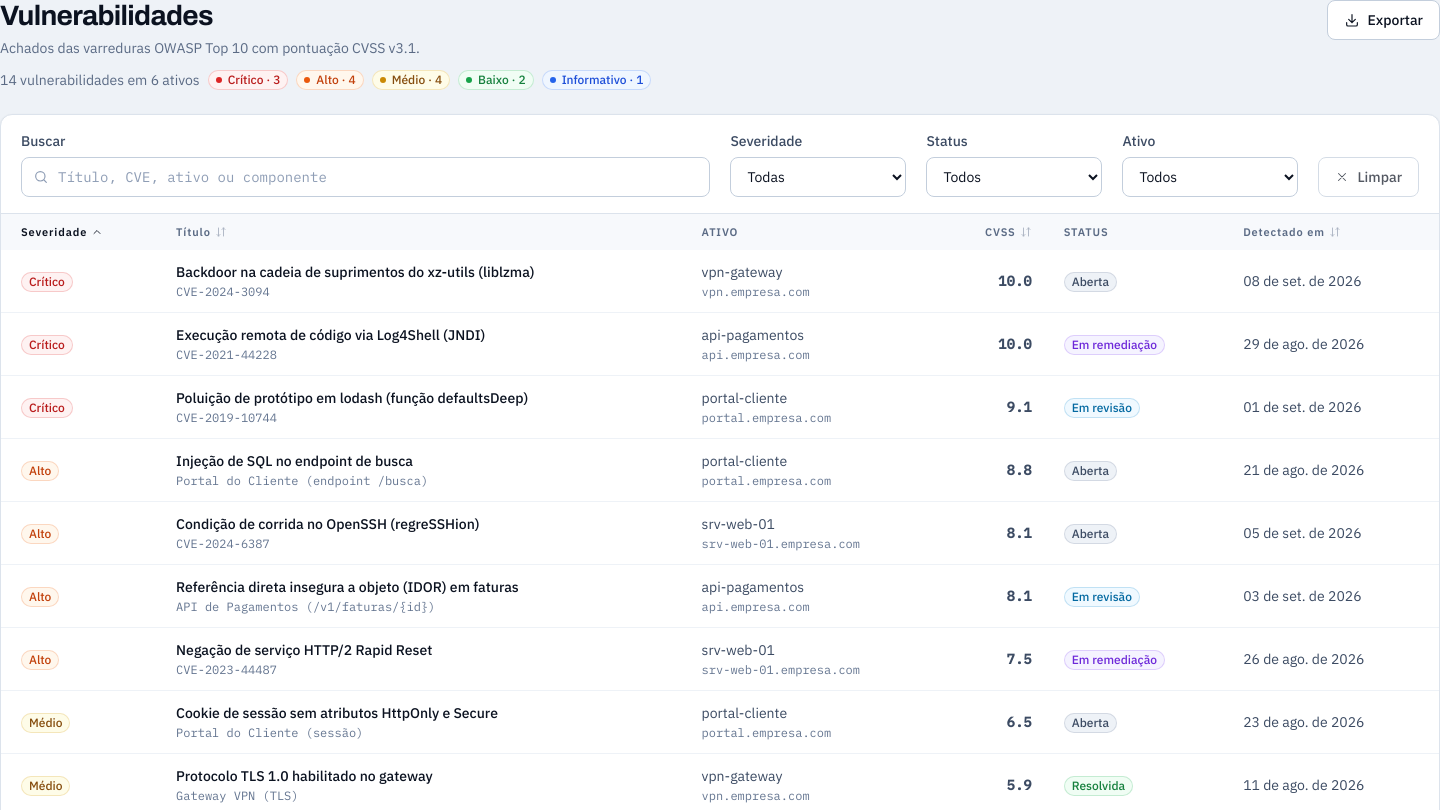
Test case: menu "Exportar" na tela de vulnerabilidades › relatório grande demais (422): mostra a recusa do servidor e não baixa nada
Expected: the button "Exportar" is enabled, [1326,0,1439,40]
Select "Crítico" in the dropdown labelled "Severidade": x=818, y=177 [730,157,906,197]
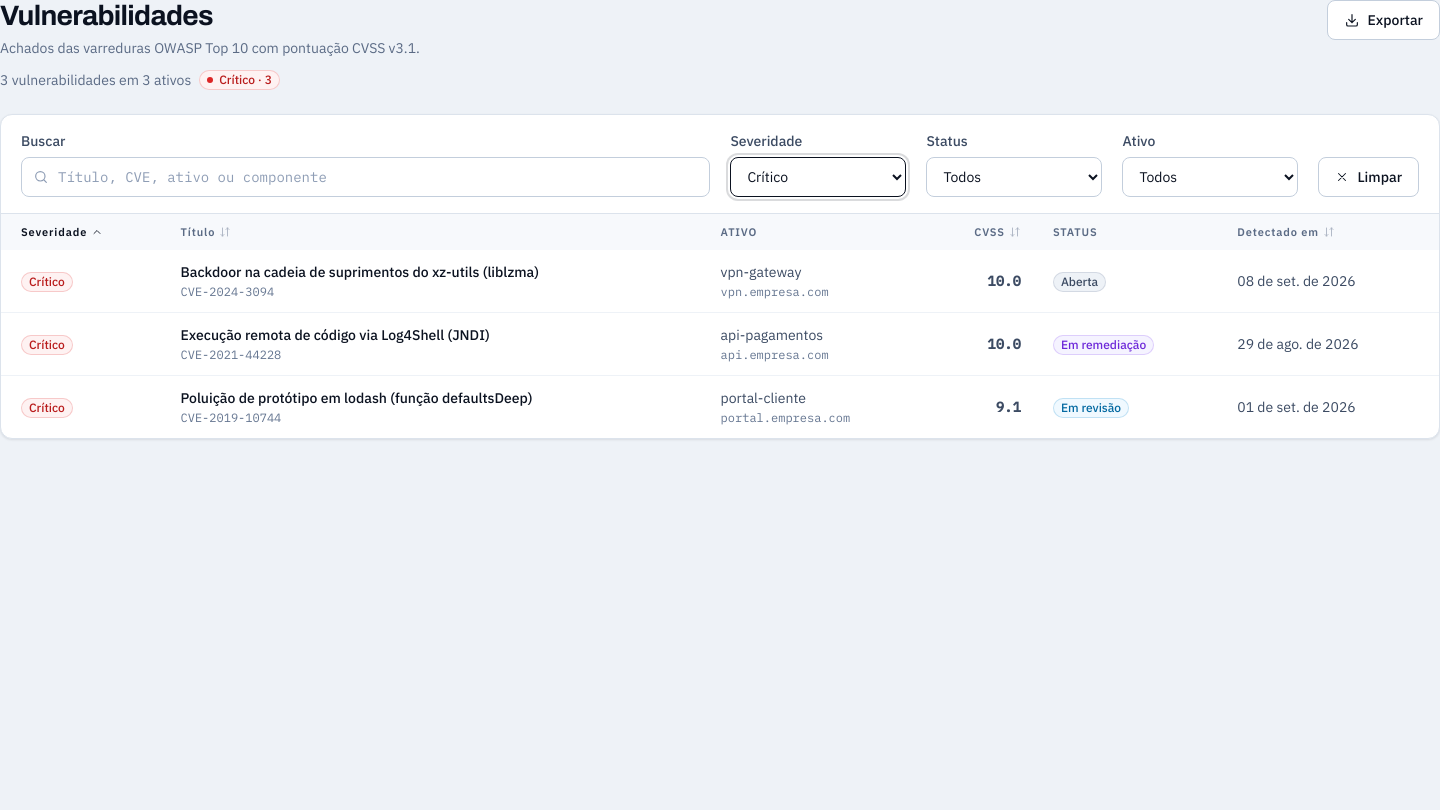
Click the button "Exportar": x=1383, y=20 [1326,0,1439,40]
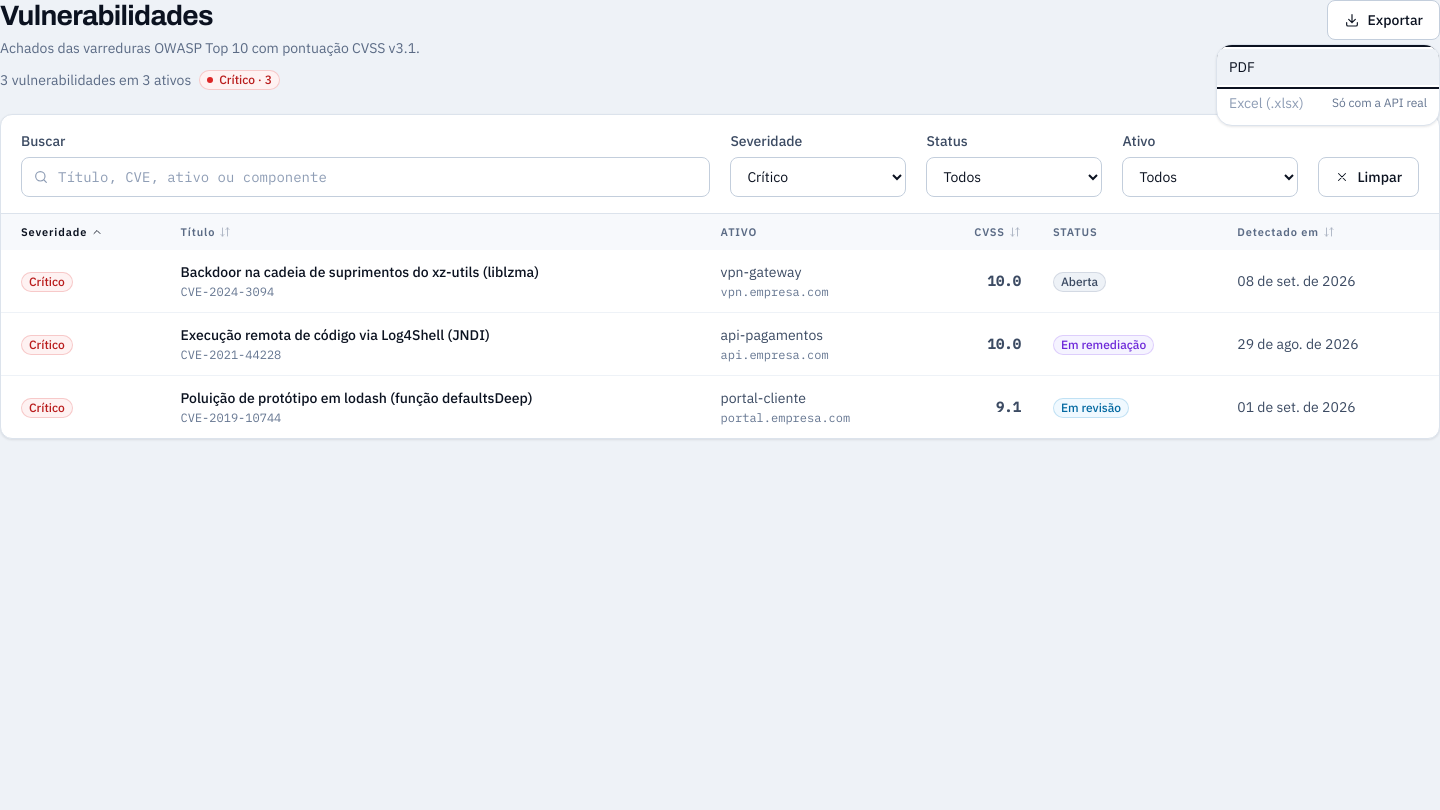
Click the menu item "PDF": x=1328, y=67 [1217,49,1439,85]
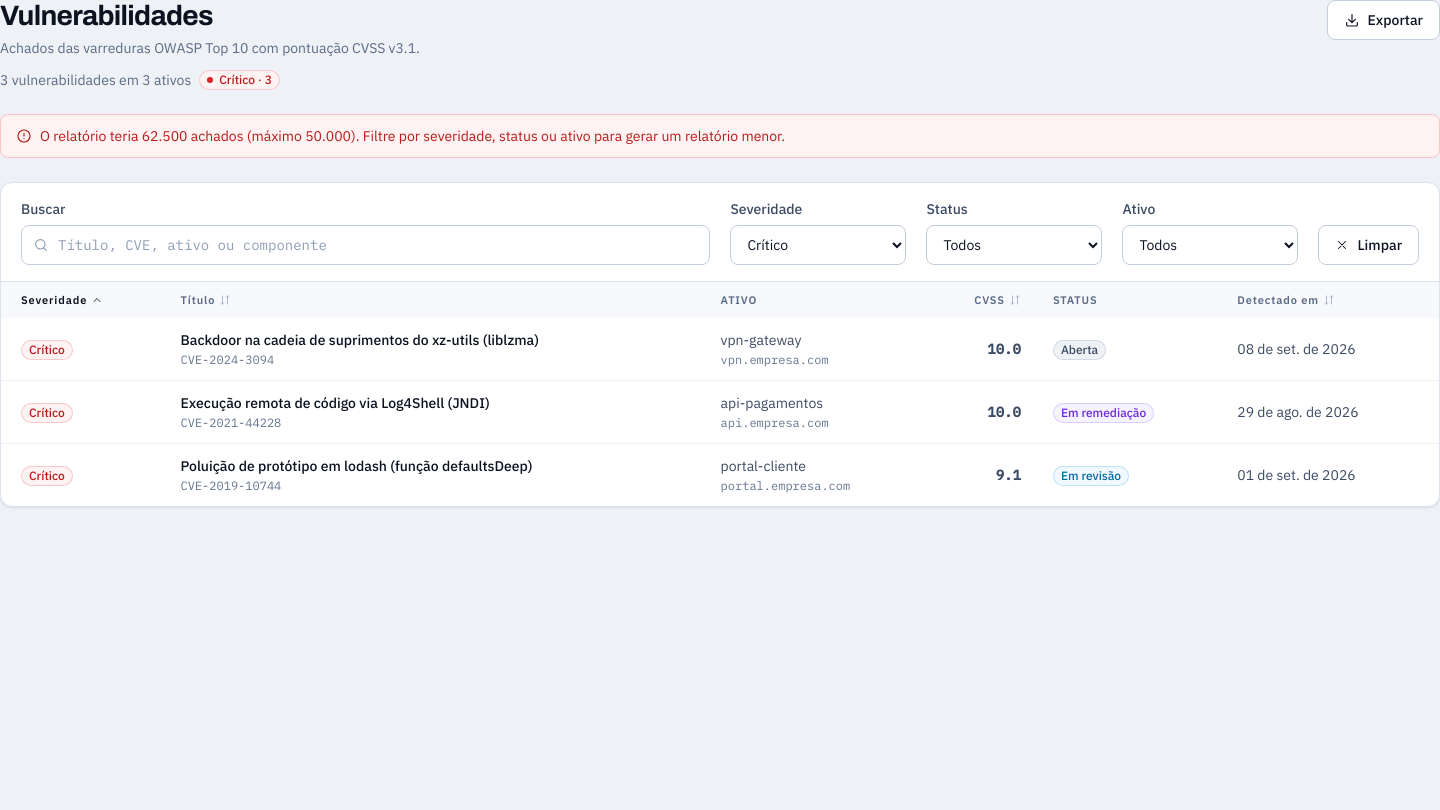
Expected: the button "Exportar" is enabled, [1326,0,1439,40]
Now the message shows "O relatório teria 62.500 achados (máximo 50.000).", box [40,127,785,145]
